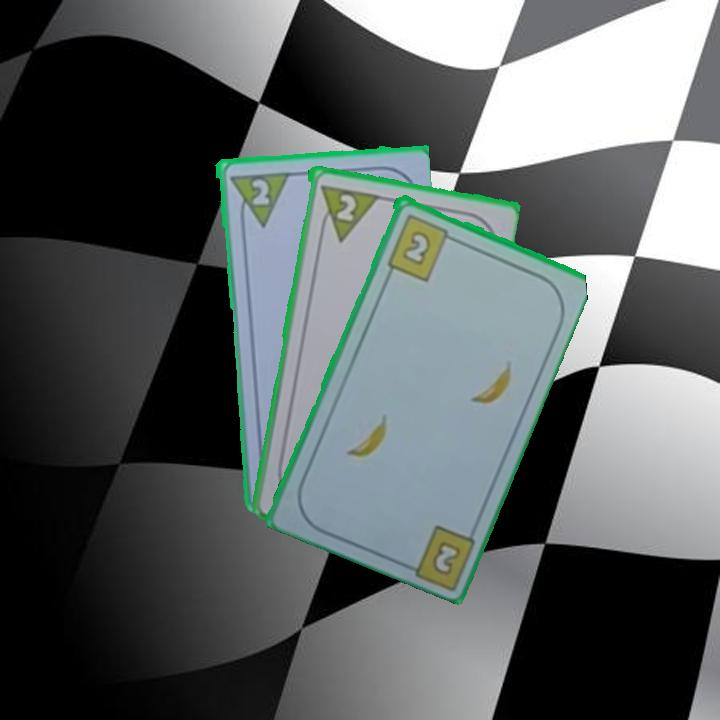2b: (383, 210, 459, 283), (398, 520, 478, 589)
2p: (314, 180, 379, 244), (225, 168, 290, 230)
